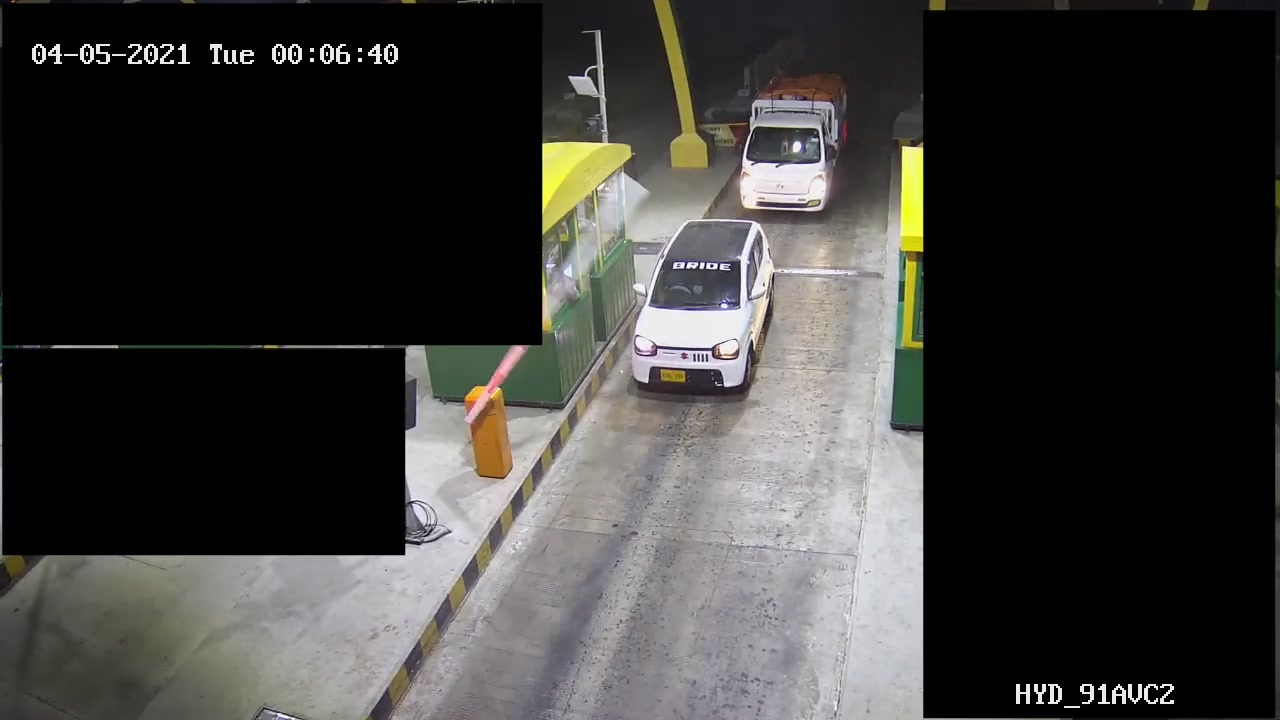F1: (614, 222, 794, 407)
F2: (723, 68, 853, 217)
